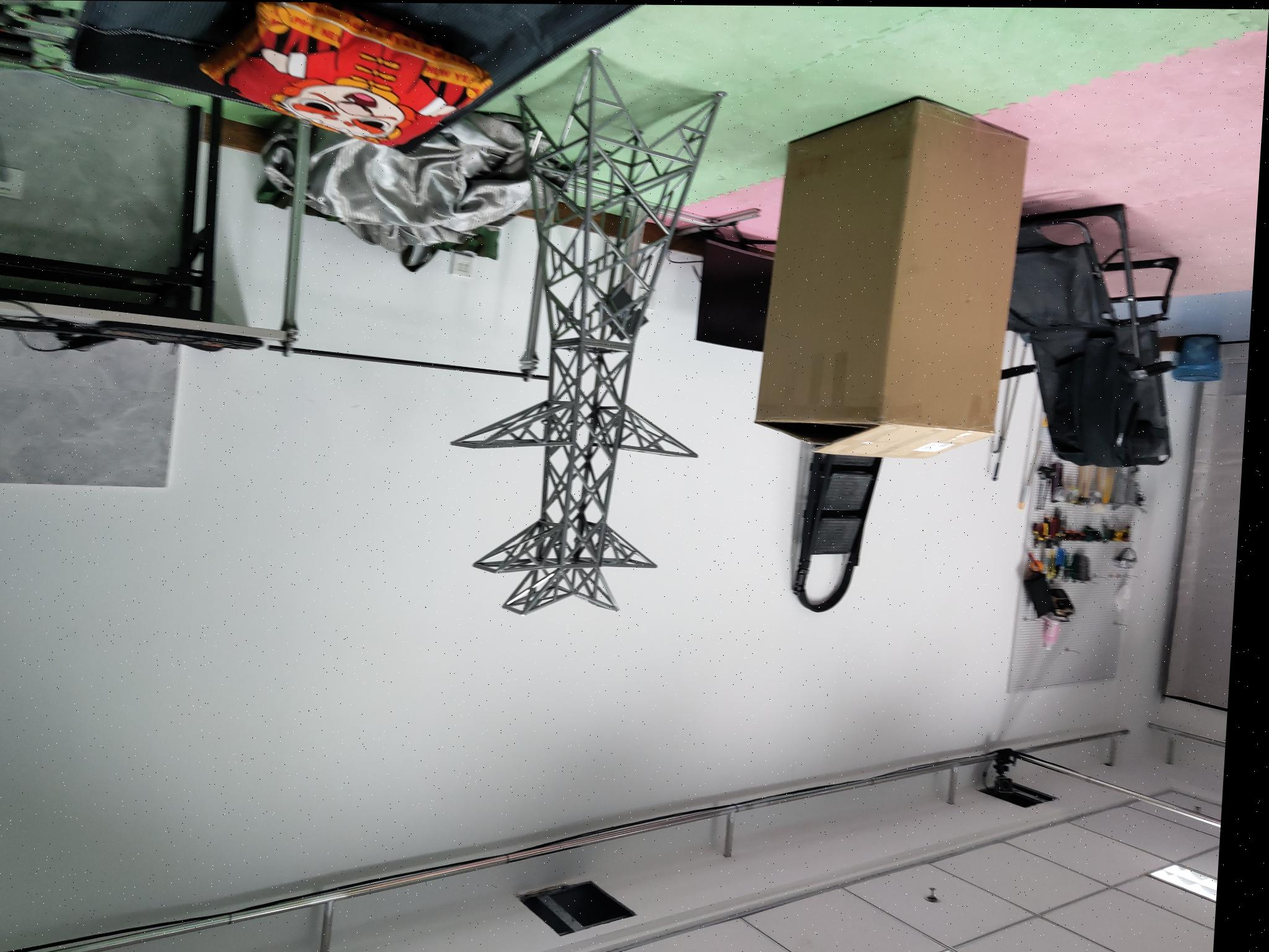tower: (441, 59, 719, 616)
